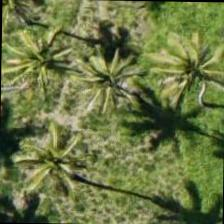Kelapa_Sawit: (70, 30, 162, 122), (141, 18, 223, 110)
